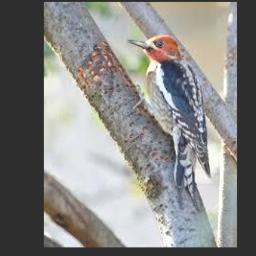Woodpecker: (127, 35, 211, 211)
